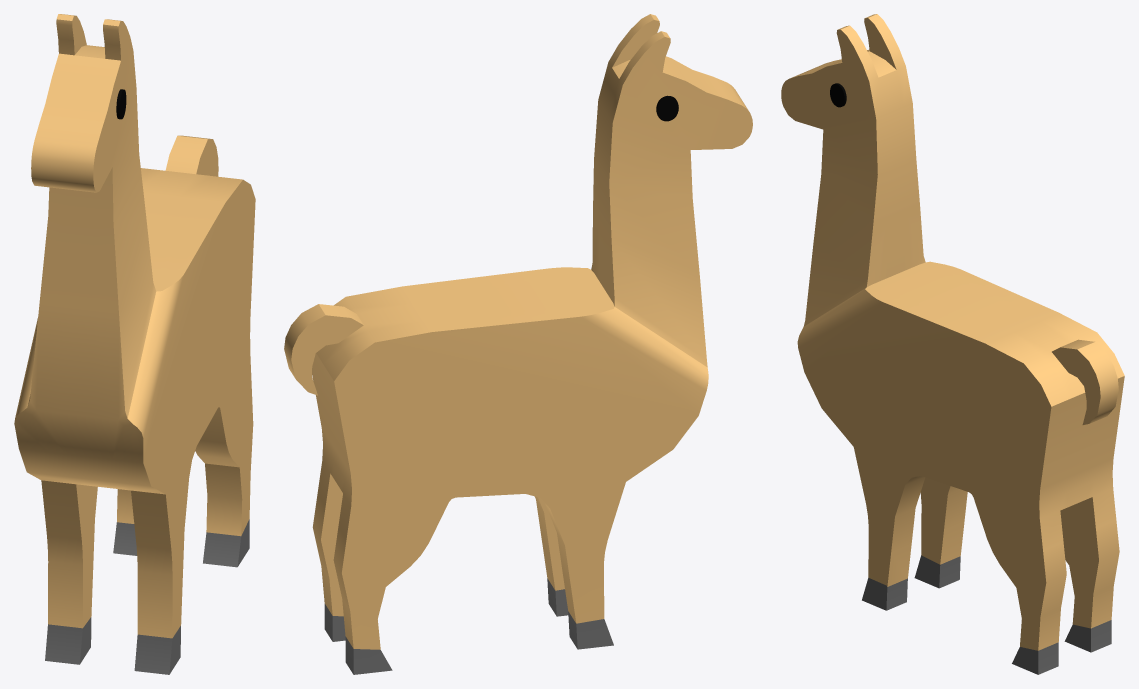
File: llama.gltf
The picture shows the model from 3 angles, left to right: view 1: azimuth 30°, elevation 25°; view 2: azimuth 150°, elevation 25°; view 3: azimuth 270°, elevation 25°; orthographic projection. The views are drawn at different scales.
Visible parts, largest first — view 1: Plane.130; view 2: Plane.130; view 3: Plane.130.
Boxes of the visible parts, x1=… form: Plane.130: x1=14, y1=14, x2=255, y2=674; Plane.130: x1=284, y1=14, x2=752, y2=674; Plane.130: x1=781, y1=14, x2=1124, y2=674.
Size of the model in its own units: 1.27 by 2.23 by 1.27.
1 material, 1 textured.
